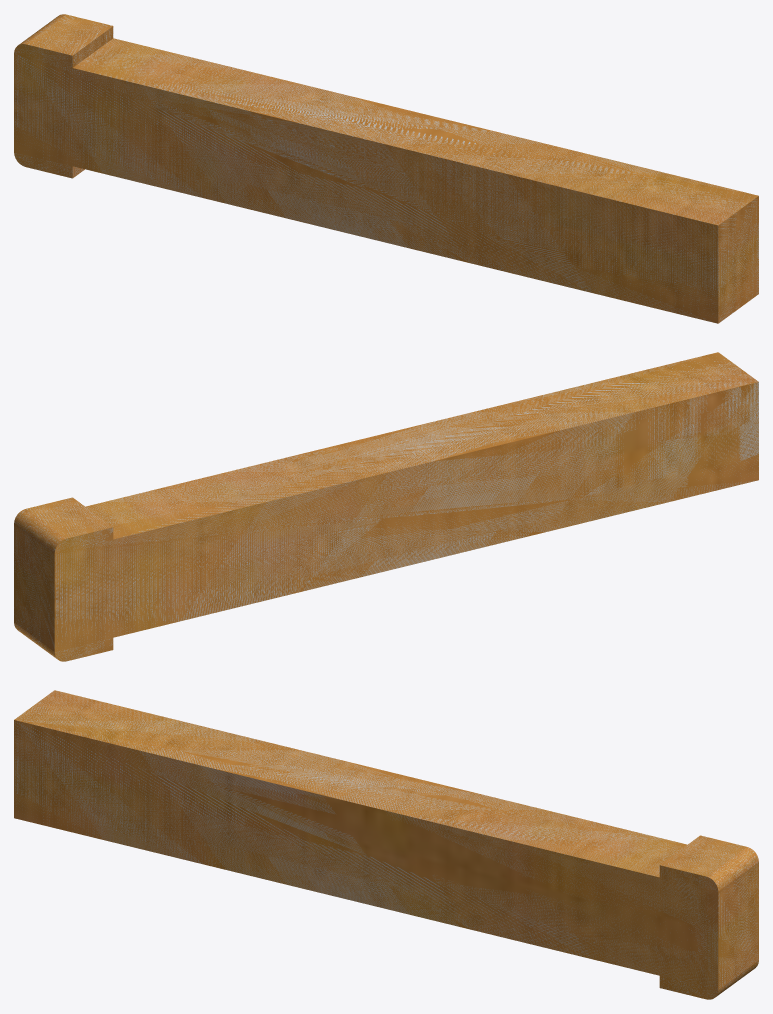
Rendered from original-28.obj.
3 views of the same model, one above another, from view 1: azimuth 90°, elevation 25°; view 2: azimuth 150°, elevation 25°; view 3: azimuth 270°, elevation 25° (orthographic).
Visible parts, largest first — view 1: #ID19; view 2: #ID19; view 3: #ID19.
Boxes of the visible parts, x1,y1,x2,y2 form: #ID19: [14, 14, 758, 323]; #ID19: [14, 352, 758, 661]; #ID19: [14, 690, 758, 999].
Bounding box in the file's own units: 0.2117 × 0.0601 × 0.3305.
